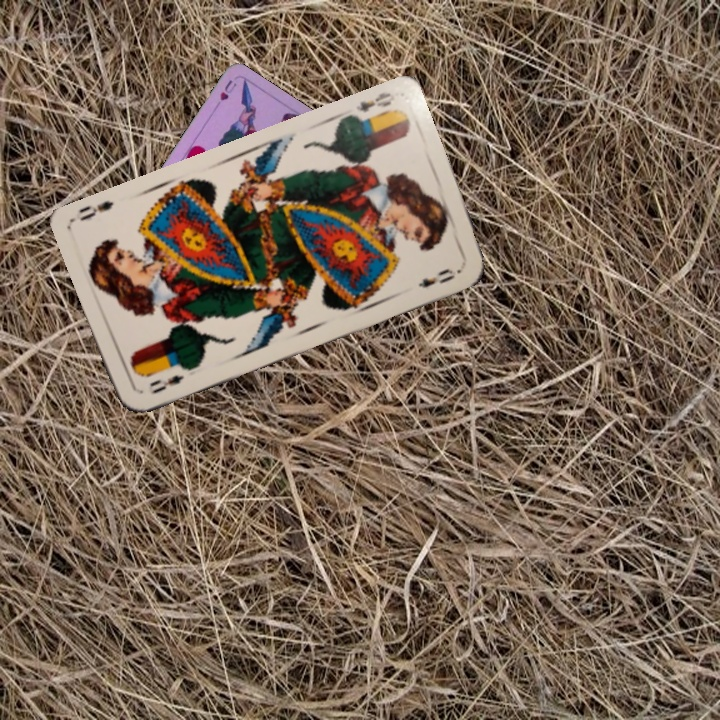EO: (352, 88, 398, 115), (146, 370, 187, 397)
HU: (210, 75, 239, 112)
